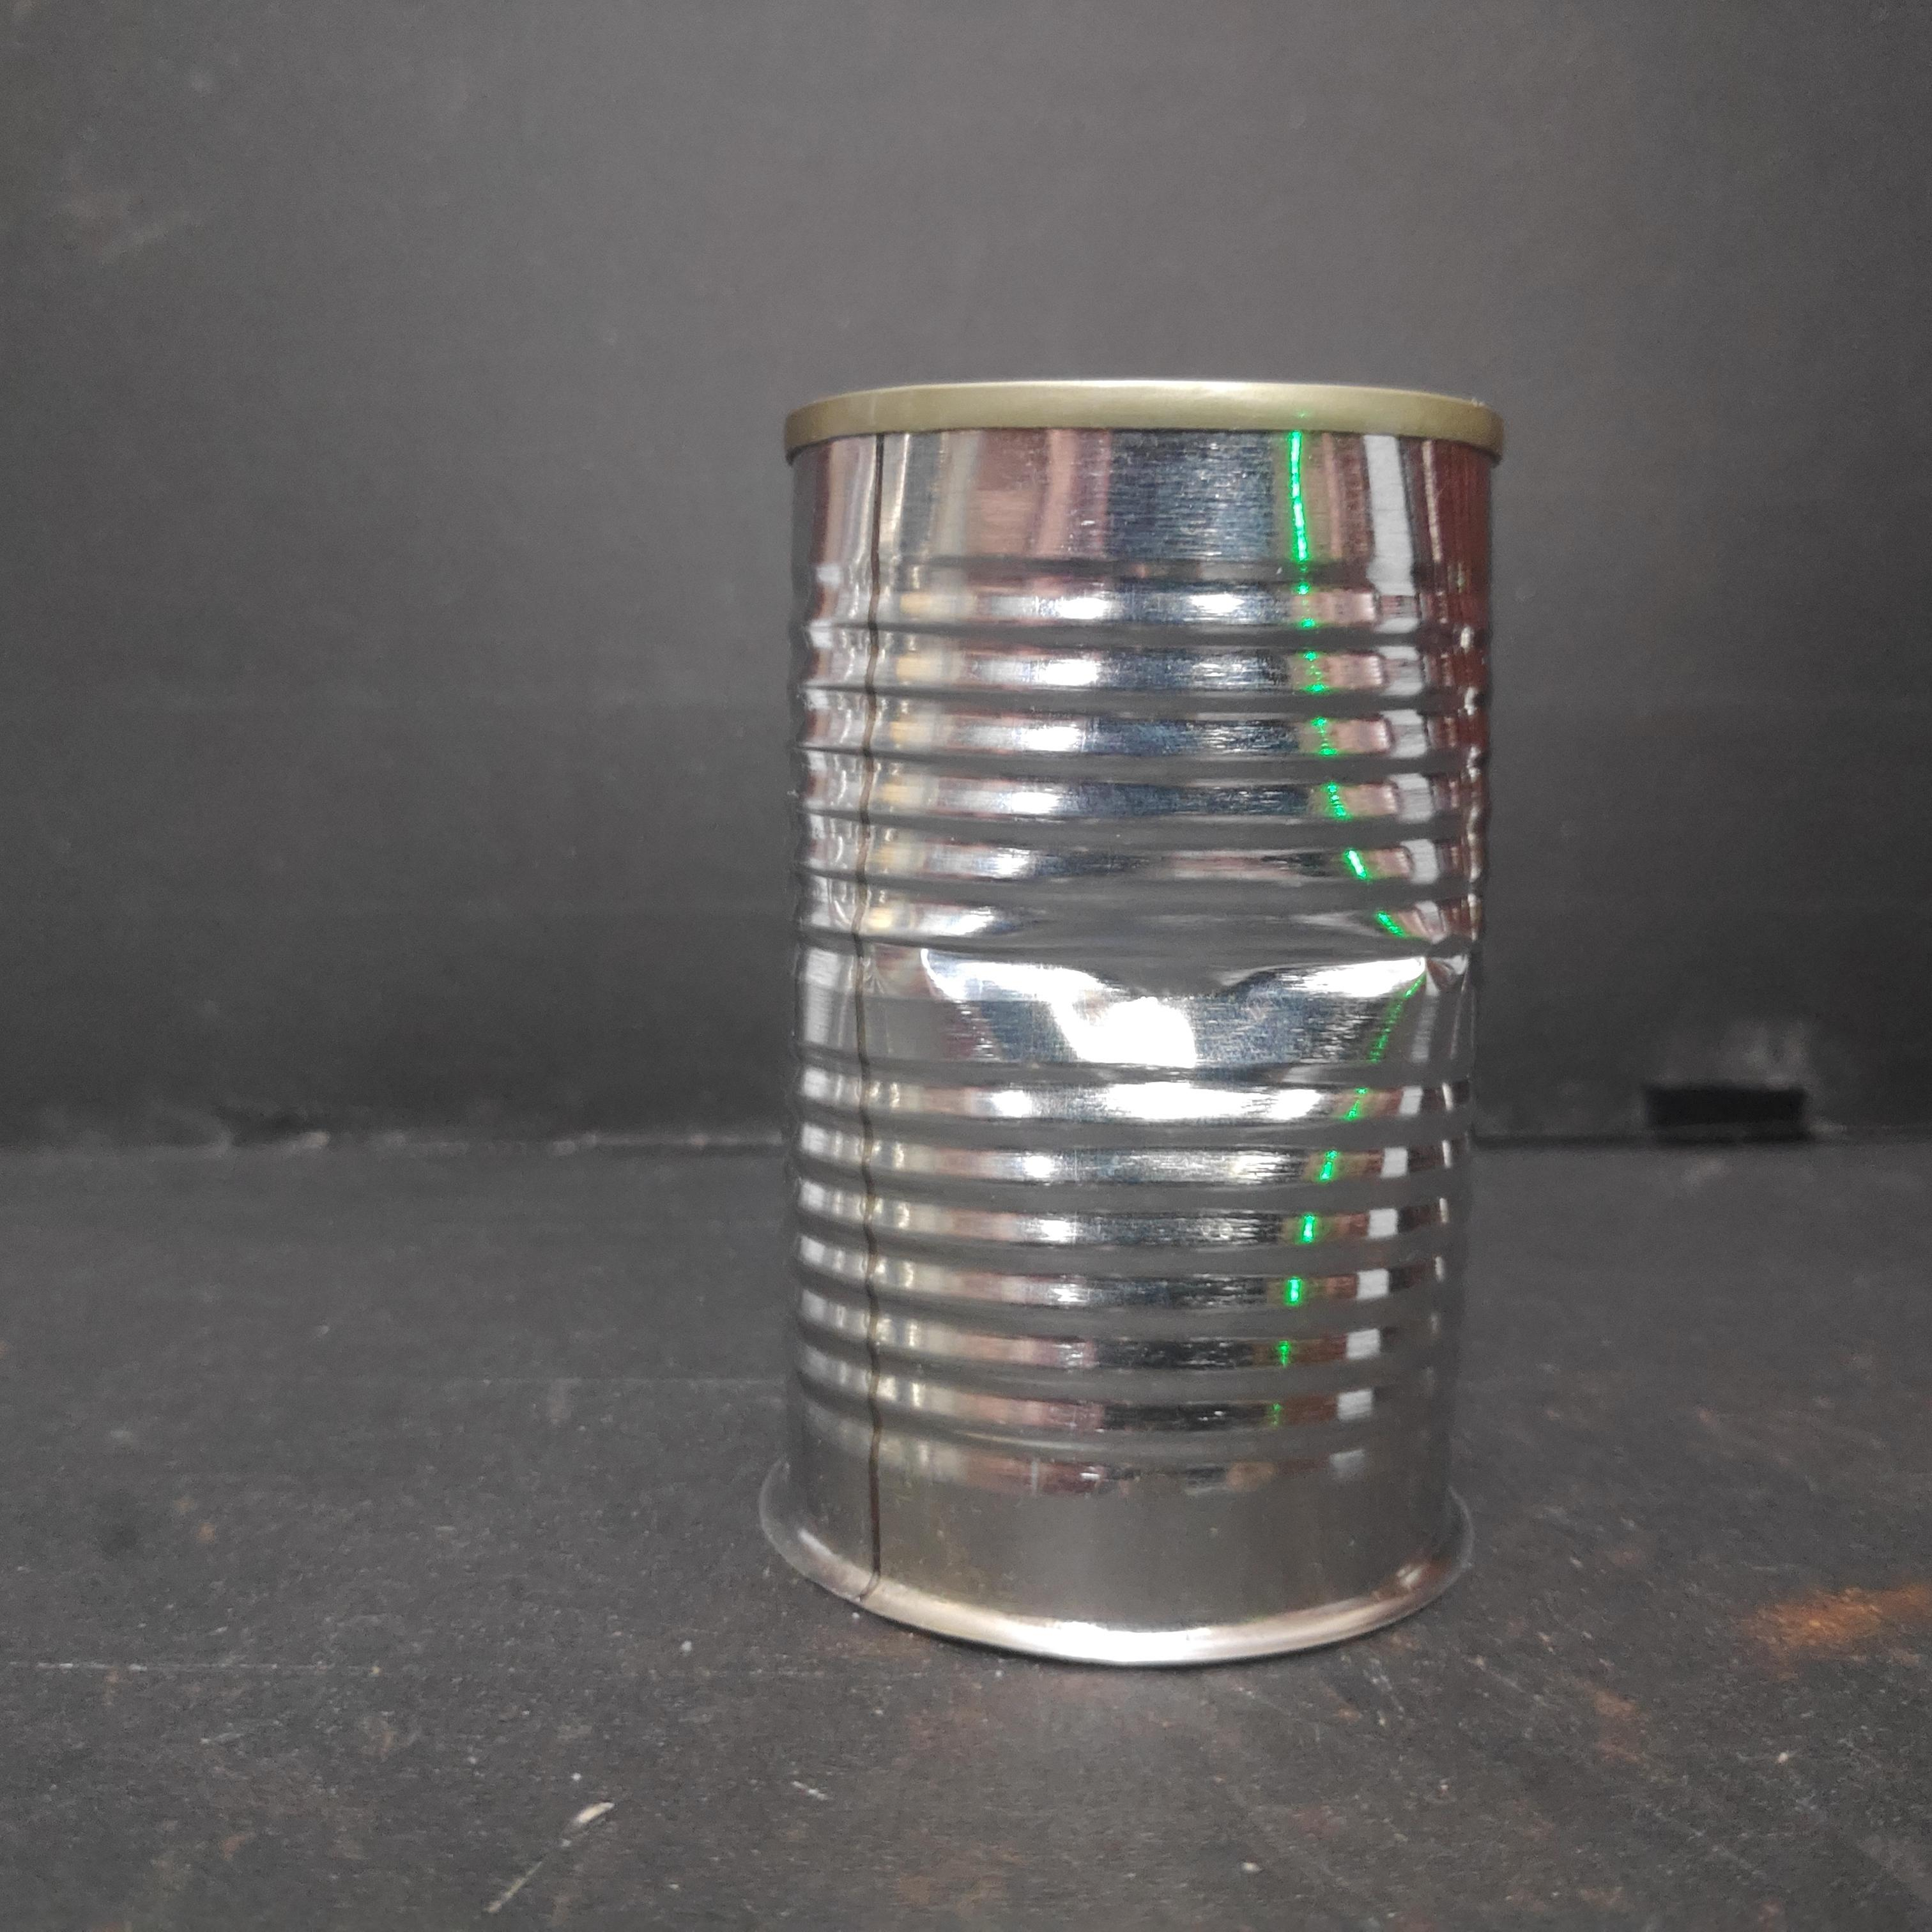Minor Defect: (771, 372, 1514, 1686)
